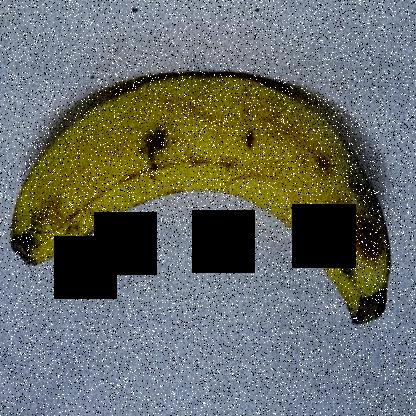ripe: (9, 78, 400, 322)
